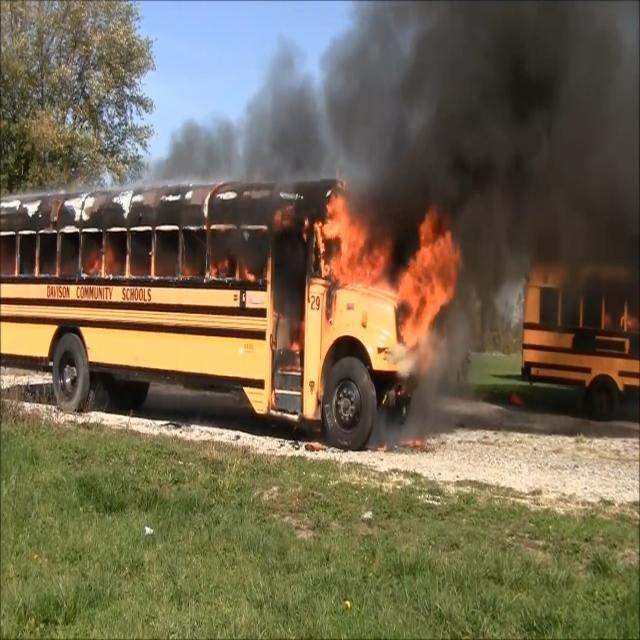Fire: (392, 222, 464, 311), (316, 209, 386, 278)
Smoke: (353, 29, 638, 200), (218, 65, 344, 186)
